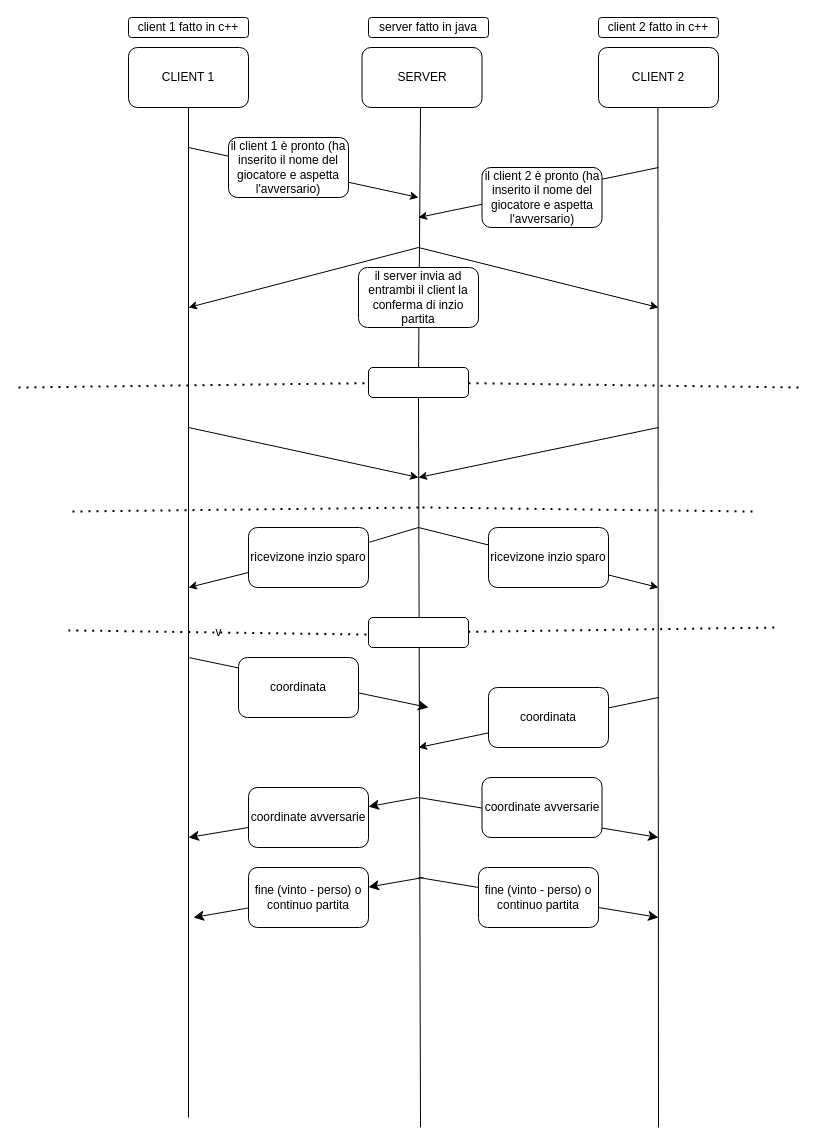
The diagram is 817 pixels wide and 1146 high, and some of its shapes have lost their labels. Each missing label, with the box of its shape:
loop: (368, 616, 468, 648)
thread: (368, 366, 468, 398)
